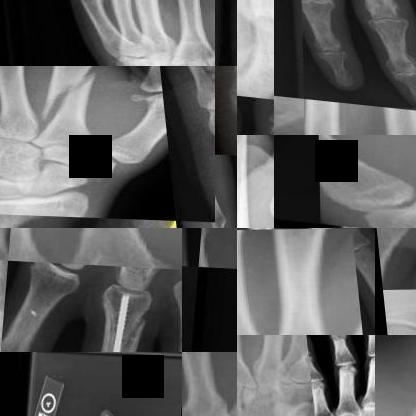fracture: (25, 66, 112, 121), (95, 285, 156, 351), (274, 86, 304, 134), (281, 335, 309, 375), (184, 66, 214, 92), (66, 0, 114, 13)
